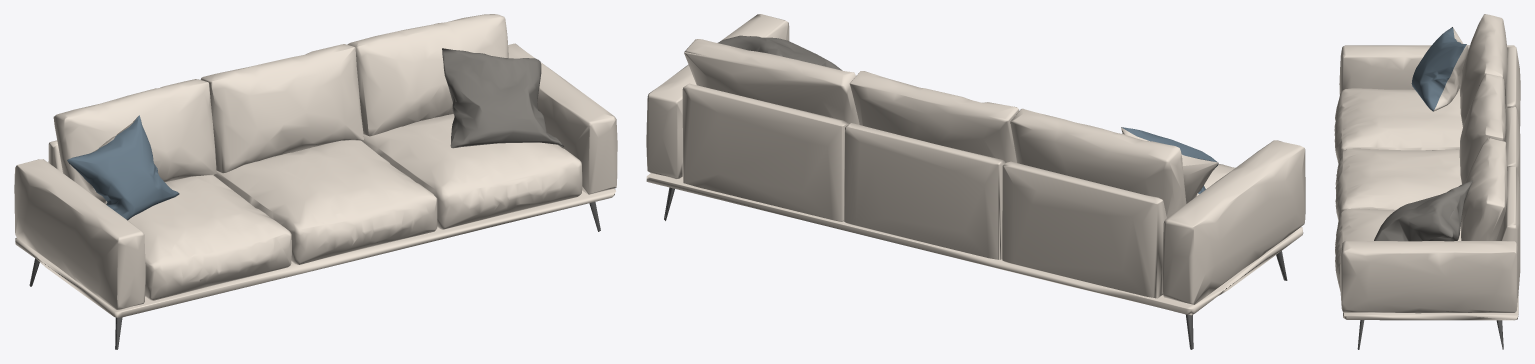
File: sofa-modelo-quatro-pes.glb
3 views of the same model, side by side, from view 1: azimuth 30°, elevation 25°; view 2: azimuth 150°, elevation 25°; view 3: azimuth 270°, elevation 25° (orthographic). The views are drawn at different scales.
Parts seen in each view (by area): view 1: Modelo Quatro pes; view 2: Modelo Quatro pes; view 3: Modelo Quatro pes.
Boxes of the visible parts, x1,y1,x2,y2 form: Modelo Quatro pes: (14, 14, 617, 349); Modelo Quatro pes: (646, 14, 1305, 349); Modelo Quatro pes: (1334, 14, 1520, 349).
Bounding box in the file's own units: 2.48 × 0.8033 × 0.9206.
